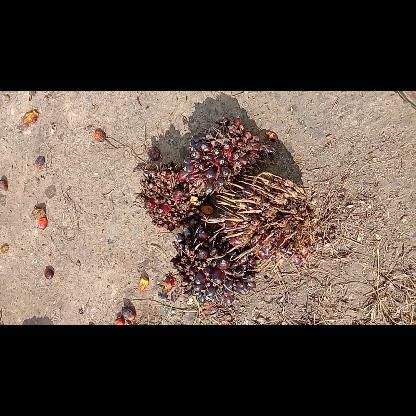TBS abnormal: (204, 172, 314, 270), (184, 116, 274, 196), (169, 224, 259, 304), (136, 161, 202, 231)
